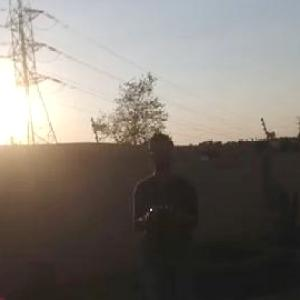follow: (128, 129, 206, 299)
